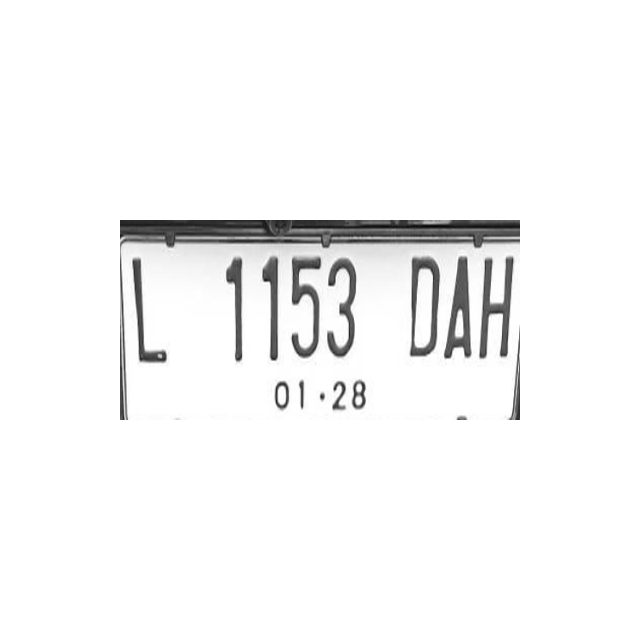contain: (129, 246, 169, 373), (210, 245, 250, 372), (247, 245, 287, 372), (284, 245, 324, 372), (319, 245, 359, 372), (403, 244, 443, 371), (439, 245, 479, 372), (476, 243, 516, 370)
